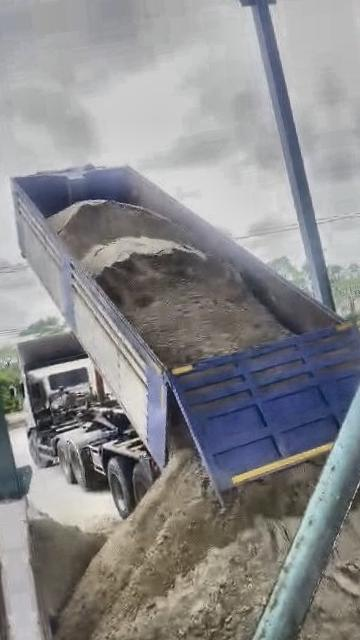sand: (61, 450, 320, 640), (50, 201, 288, 367), (295, 456, 360, 640), (30, 516, 105, 617)
